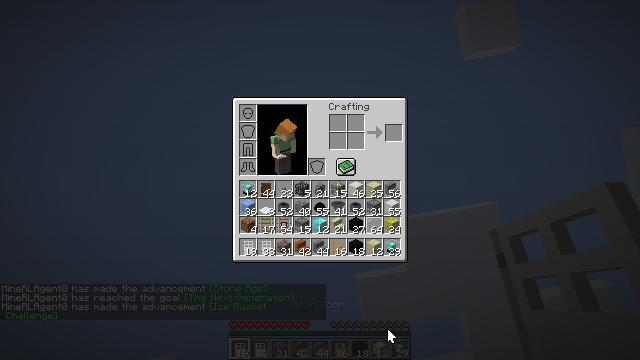cursor: (387, 328, 397, 344)
